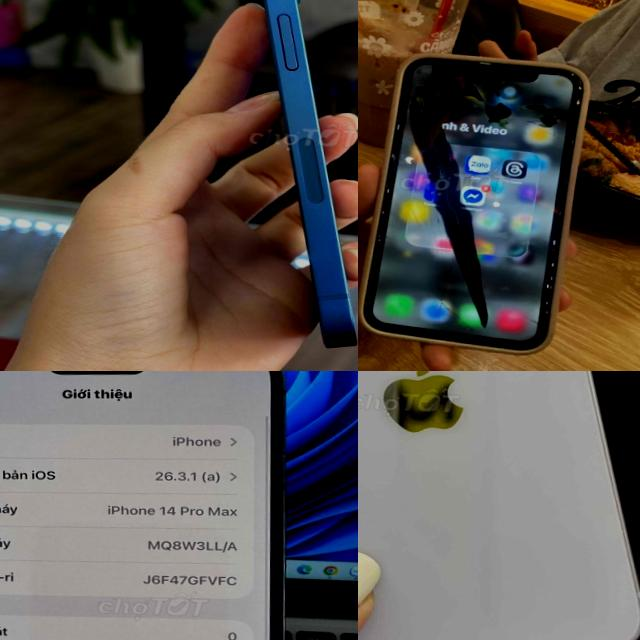gen_11: (361, 53, 587, 352)
gen_12_13: (230, 0, 358, 350)
gen_14: (0, 371, 325, 640), (358, 371, 640, 640)
physical_damage: (358, 56, 556, 340)
screen_defect: (372, 59, 568, 343)
